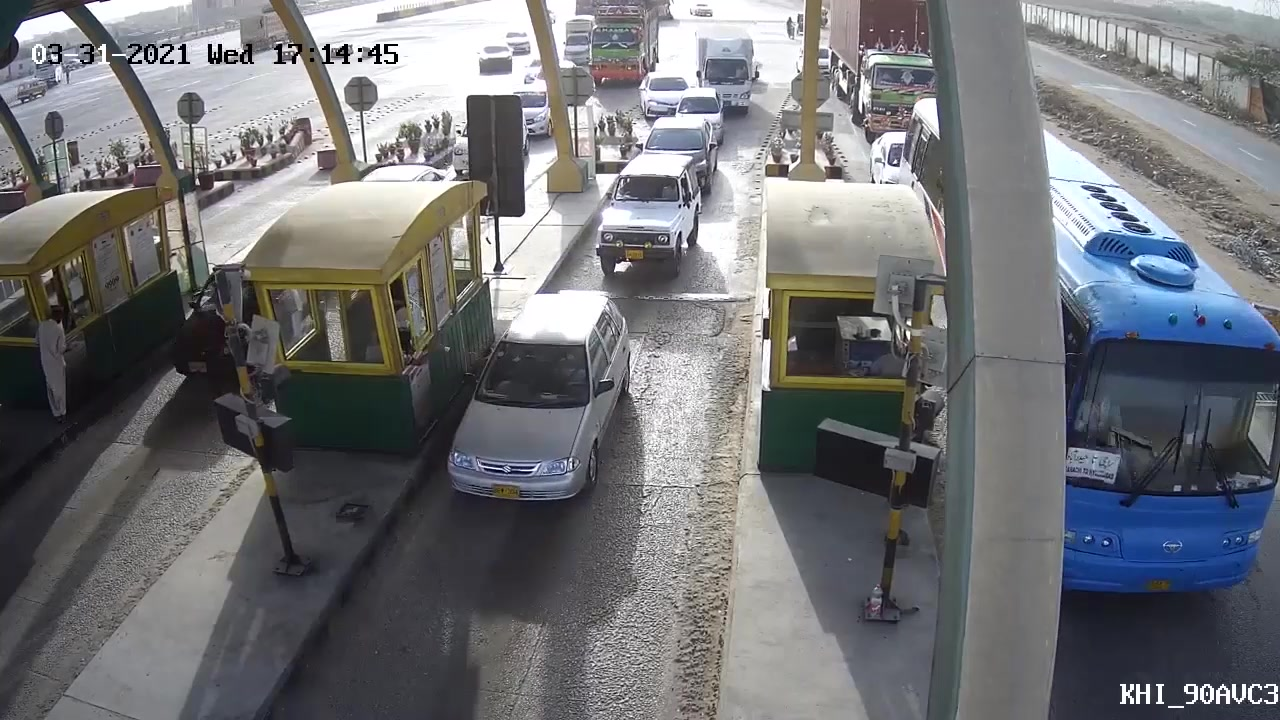F1: (431, 288, 646, 518), (588, 147, 700, 273)
